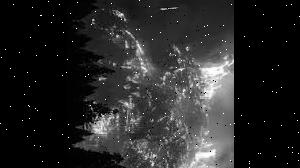fire: (81, 4, 234, 168)
